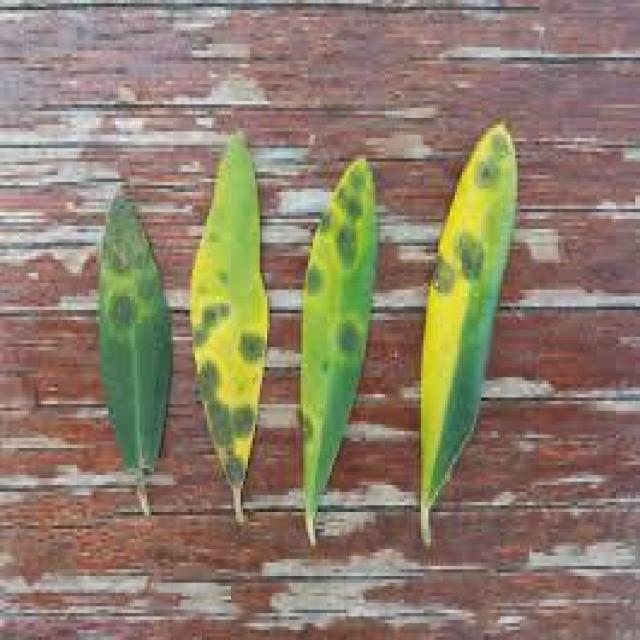Peacock Eye: (419, 121, 515, 542), (192, 135, 267, 508), (303, 158, 375, 542), (101, 189, 171, 512)
